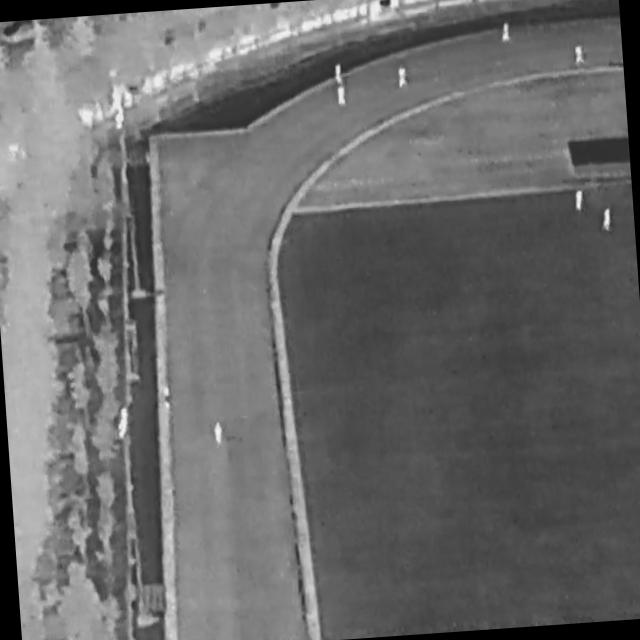person: (602, 206, 613, 233), (214, 420, 224, 446), (399, 66, 410, 88), (575, 43, 586, 64), (338, 84, 348, 107), (335, 62, 344, 86), (576, 189, 585, 211), (502, 21, 511, 43), (165, 388, 172, 408)
